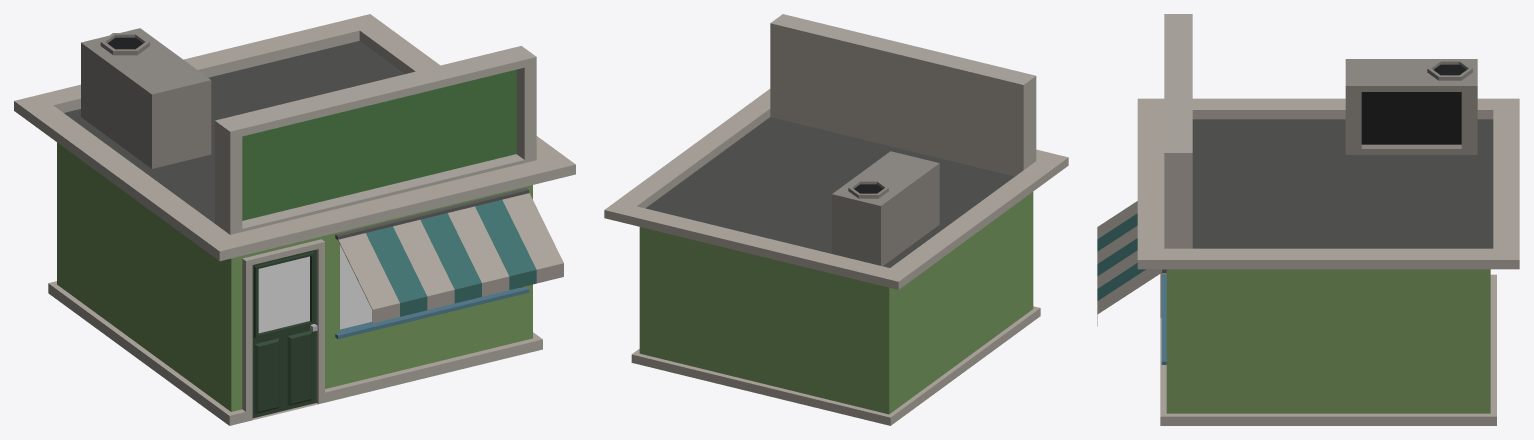
File: SM_Market_01_B.gltf
3 views of the same model, side by side, from view 1: azimuth 30°, elevation 25°; view 2: azimuth 150°, elevation 25°; view 3: azimuth 270°, elevation 25° (orthographic). The views are drawn at different scales.
Visible parts, largest first — view 1: SM_Market_01_B; view 2: SM_Market_01_B; view 3: SM_Market_01_B.
Part boxes in pixels (x1,y1,x2,y2): SM_Market_01_B: (14, 14, 575, 425); SM_Market_01_B: (604, 14, 1068, 425); SM_Market_01_B: (1097, 14, 1519, 425).
Size of the model in its own units: 3.64 by 2.85 by 4.03.
